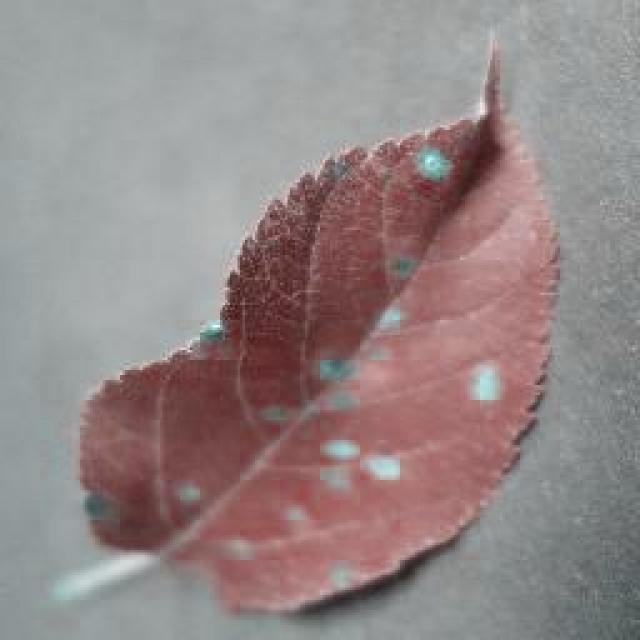apple cedar apple rust: (70, 33, 562, 615)
